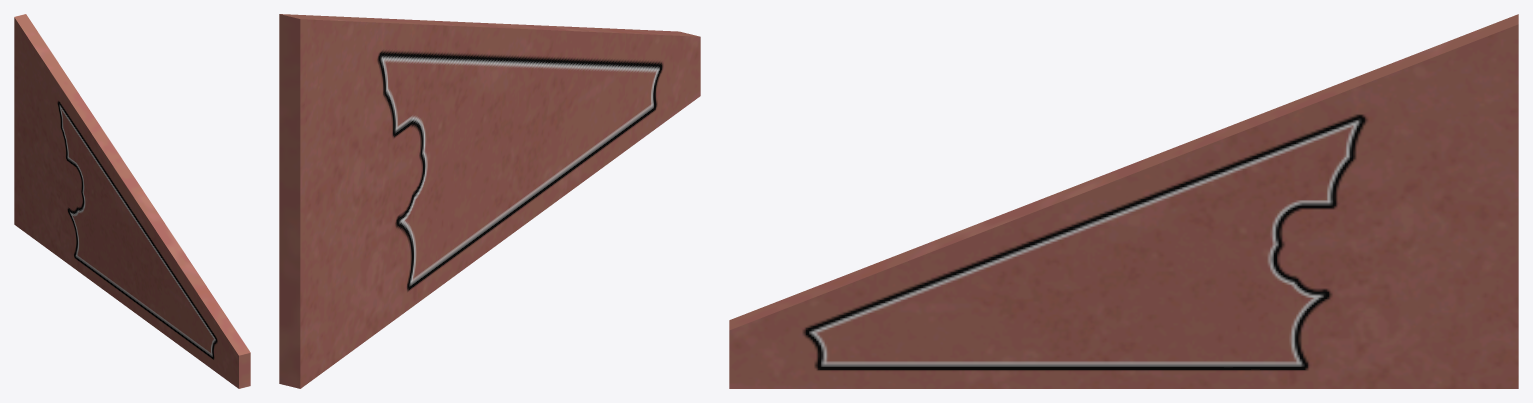
The model's file is SM_TopWall01E.fbx.
3 views of the same model, side by side, from view 1: azimuth 30°, elevation 25°; view 2: azimuth 150°, elevation 25°; view 3: azimuth 270°, elevation 25° (orthographic). The views are drawn at different scales.
Parts seen in each view (by area): view 1: SM_TopWall01E; view 2: SM_TopWall01E; view 3: SM_TopWall01E.
Part boxes in pixels (box(x1,y1,x2,y2)): SM_TopWall01E: box(14, 14, 250, 388); SM_TopWall01E: box(279, 14, 700, 388); SM_TopWall01E: box(729, 14, 1518, 388).
Size of the model in its own units: 5.14 by 168 by 85.49.
